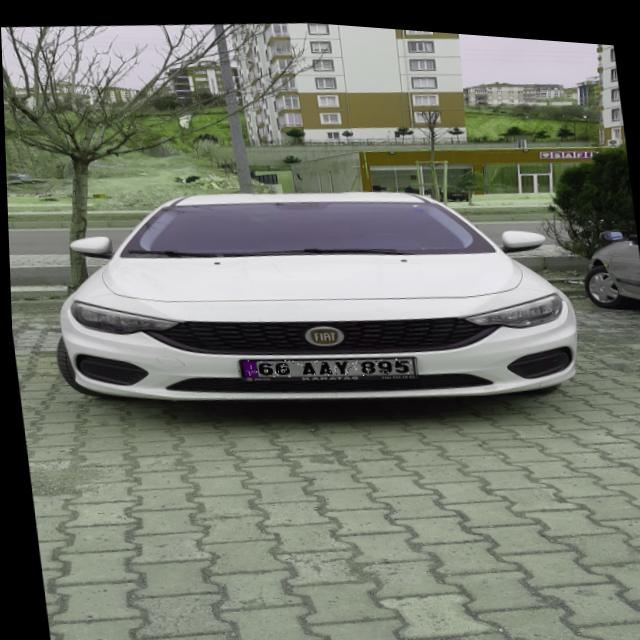plate: (234, 341, 413, 383)
